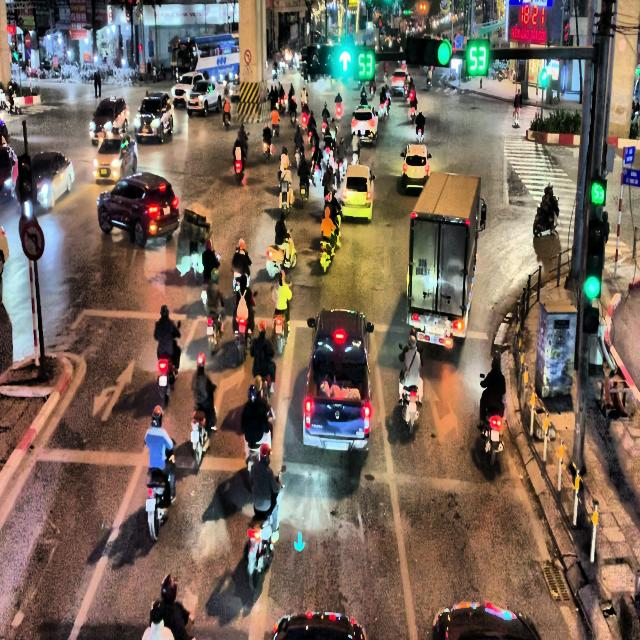lisence_plate: (414, 258, 431, 282), (425, 322, 444, 339), (324, 440, 347, 453), (352, 192, 361, 208), (160, 206, 170, 216), (415, 166, 421, 179), (361, 130, 366, 139)
